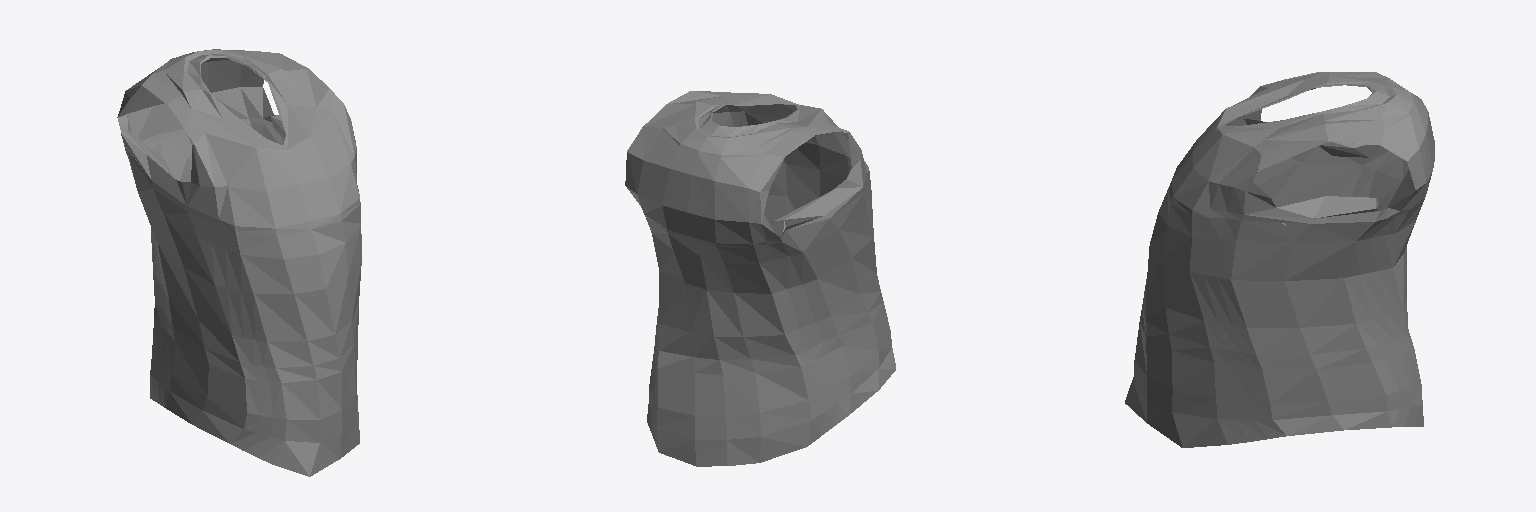
The model's file is body.obj.
3 renders of one model, left to right at view 1: azimuth 30°, elevation 25°; view 2: azimuth 150°, elevation 25°; view 3: azimuth 270°, elevation 25°, orthographic.
Visible parts, largest first — view 1: male01_mesh1_002_mesh1_geometry_male_02_1noCullingID_male_02_1no; view 2: male01_mesh1_002_mesh1_geometry_male_02_1noCullingID_male_02_1no; view 3: male01_mesh1_002_mesh1_geometry_male_02_1noCullingID_male_02_1no.
Part boxes in pixels (x1,y1,x2,y2): male01_mesh1_002_mesh1_geometry_male_02_1noCullingID_male_02_1no: (117, 49, 361, 476); male01_mesh1_002_mesh1_geometry_male_02_1noCullingID_male_02_1no: (625, 91, 895, 466); male01_mesh1_002_mesh1_geometry_male_02_1noCullingID_male_02_1no: (1125, 72, 1434, 447).
Size of the model in its own units: 12.56 by 22.62 by 19.29.